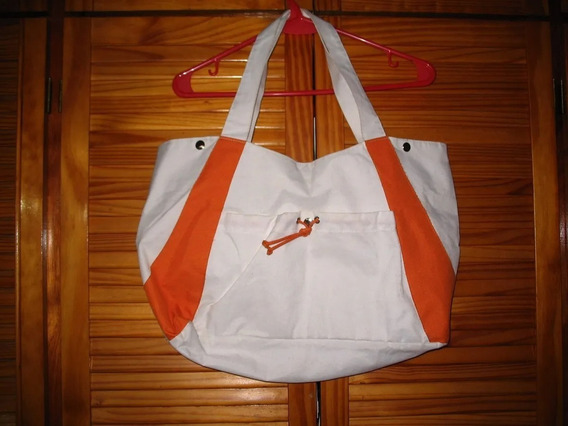cartera: (135, 7, 461, 385)
